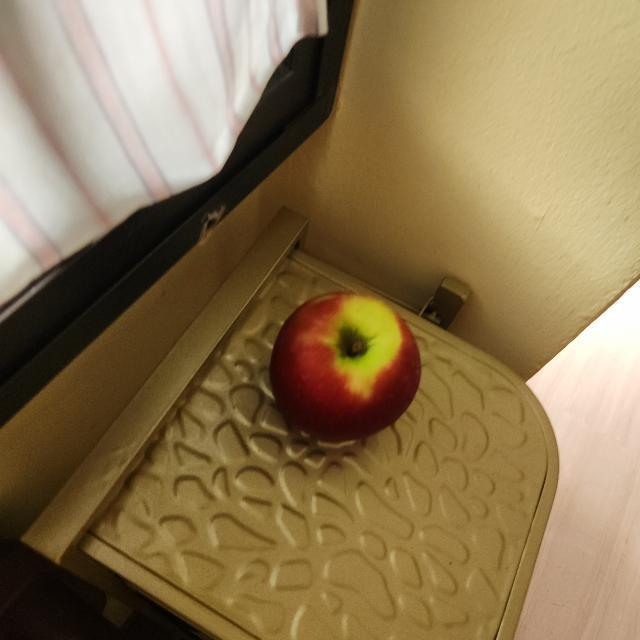apple: (262, 278, 430, 454)
